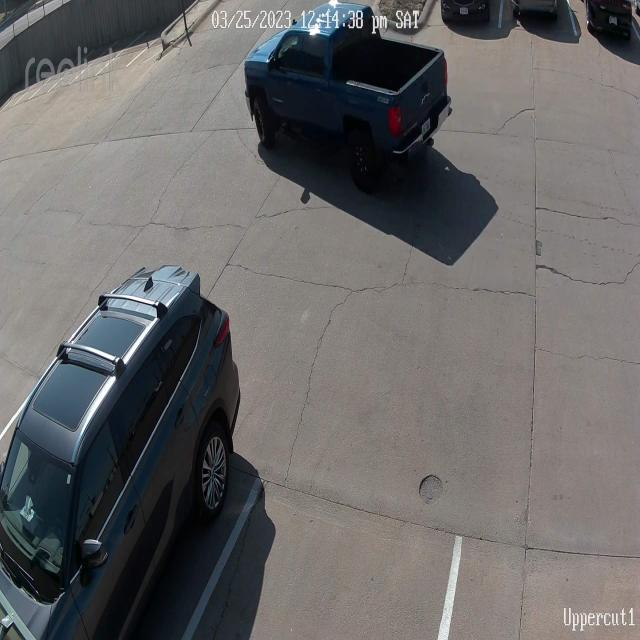Car: (243, 8, 452, 194)
Empty-slot: (185, 433, 476, 640), (445, 422, 640, 640), (0, 278, 70, 436)
Slot-Occupied: (5, 271, 226, 640), (588, 0, 637, 45), (442, 0, 496, 40), (516, 0, 563, 26)
